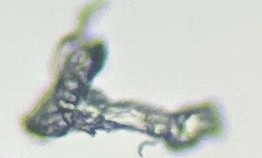microplastic: (19, 1, 223, 158)
